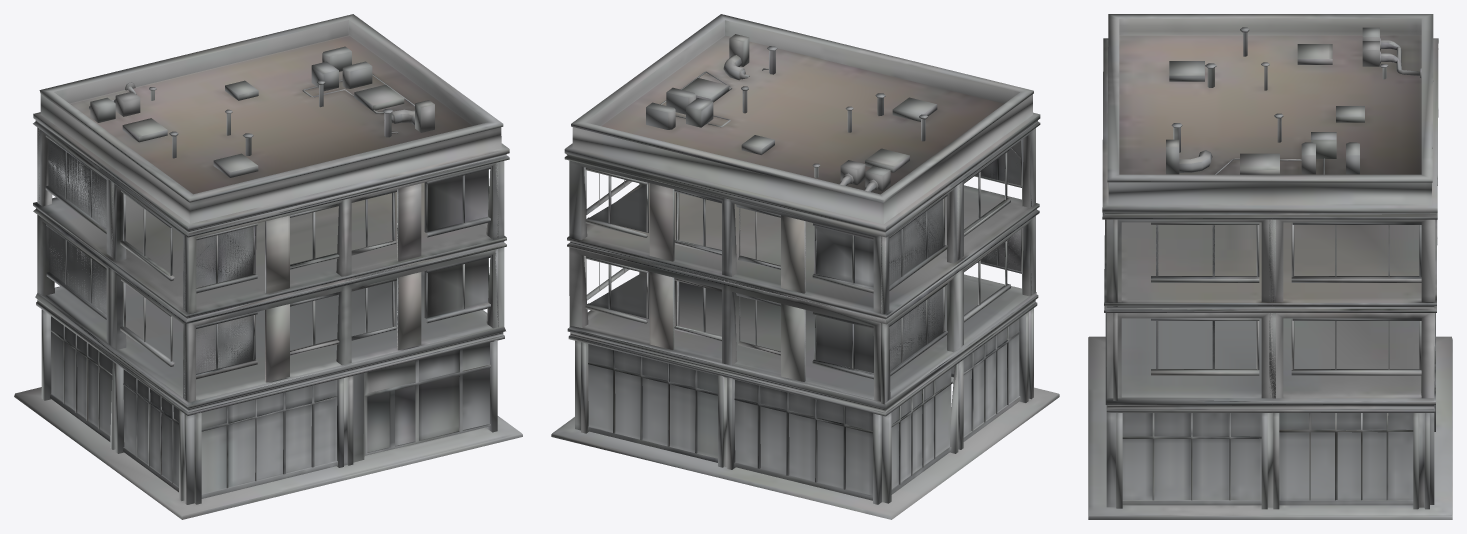
File: city-storefront.glb
3 views of the same model, side by side, from view 1: azimuth 30°, elevation 25°; view 2: azimuth 150°, elevation 25°; view 3: azimuth 270°, elevation 25° (orthographic). The views are drawn at different scales.
Visible parts, largest first — view 1: Storefront block; view 2: Storefront block; view 3: Storefront block.
Boxes of the visible parts, x1,y1,x2,y2 form: Storefront block: (14,14,522,519); Storefront block: (551,14,1059,519); Storefront block: (1088,14,1452,519).
Size of the model in its own units: 0.998 by 0.8926 by 0.8535.
1 material, 1 textured.
